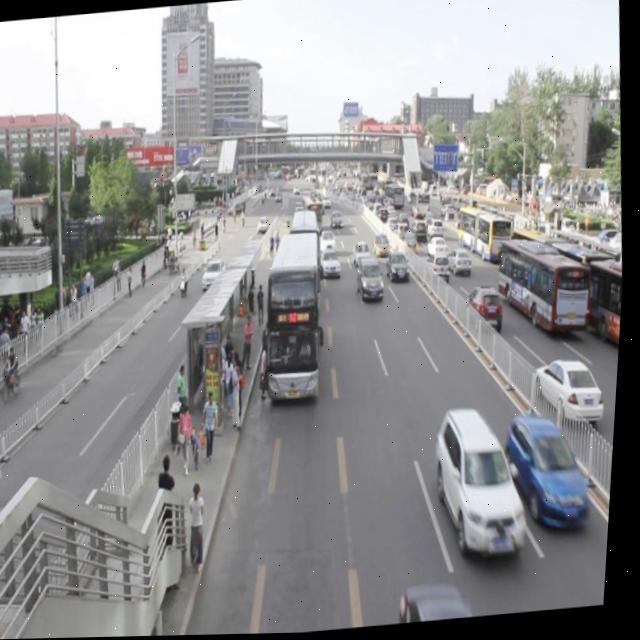car: (432, 403, 539, 561), (506, 412, 600, 535), (356, 259, 389, 306), (320, 246, 345, 280), (386, 251, 412, 282), (375, 234, 394, 259), (355, 239, 374, 264), (321, 228, 339, 253)
van: (260, 231, 332, 404), (285, 209, 329, 325)
